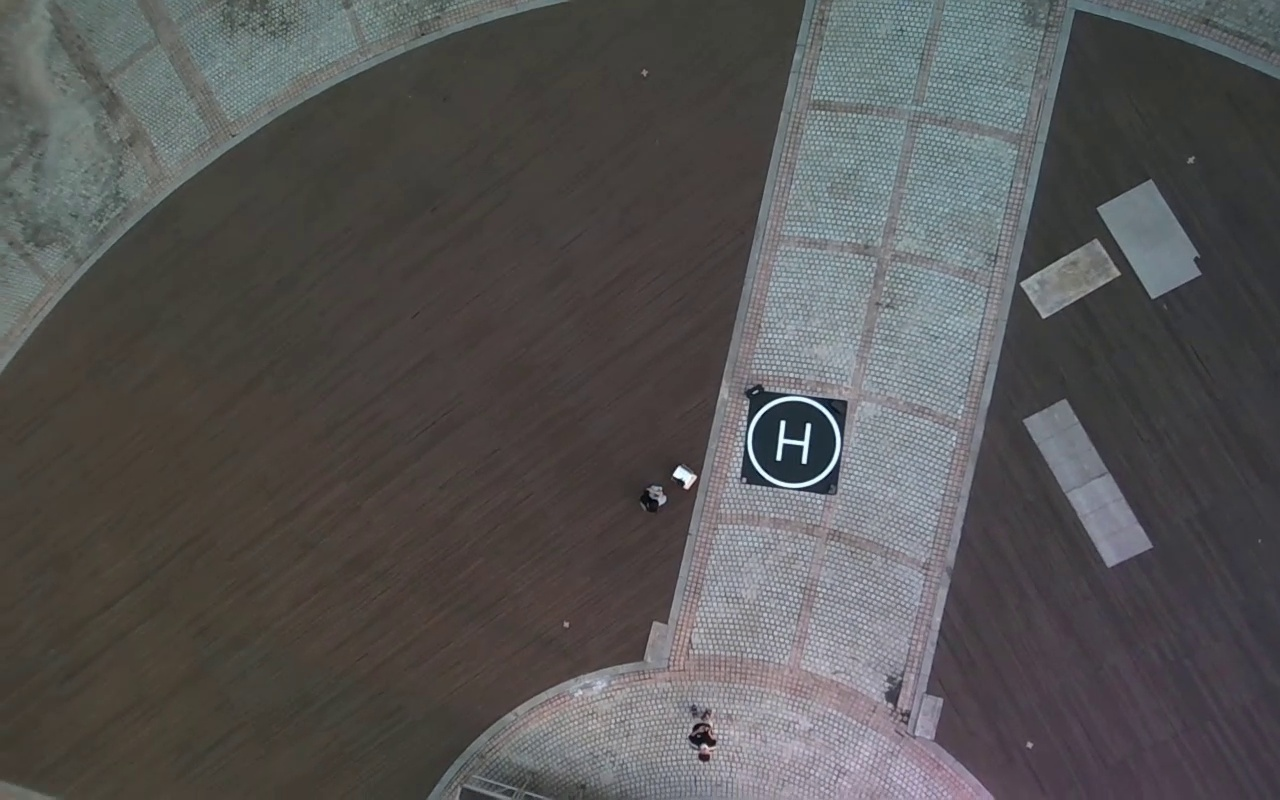H: (773, 419, 811, 465)
heliport: (747, 395, 842, 484)
